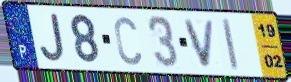3: (147, 13, 180, 70)
8: (69, 12, 102, 66)
C: (112, 14, 143, 67)
I: (220, 16, 241, 73)
J: (38, 12, 67, 64)
V: (182, 18, 217, 69)
